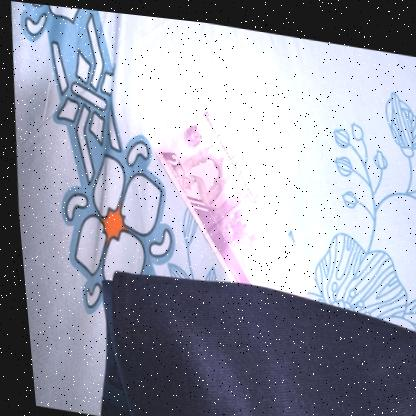one_hundred-back-vef: (141, 86, 320, 293)
